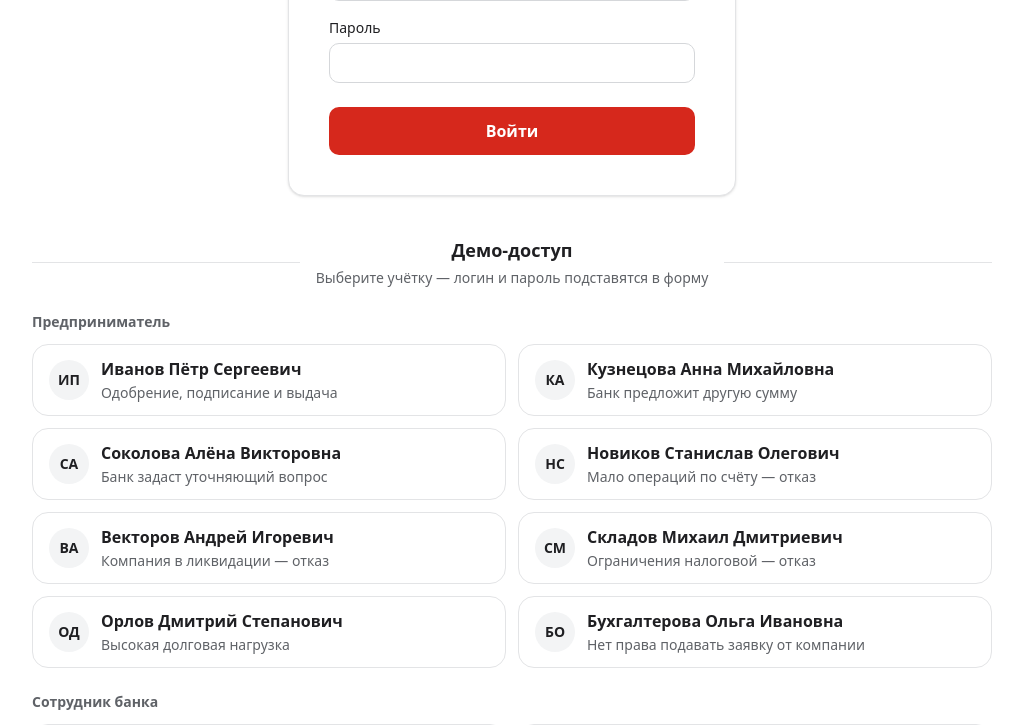
Test: экран входа › демо-учётка подставляет логин и пароль, вход ведёт на привязку компании
(page scrolled)
Click the button "КА Кузнецова Анна Михайловна Банк предложит другую сумму" at coordinates (755, 380), box [518, 344, 992, 416]
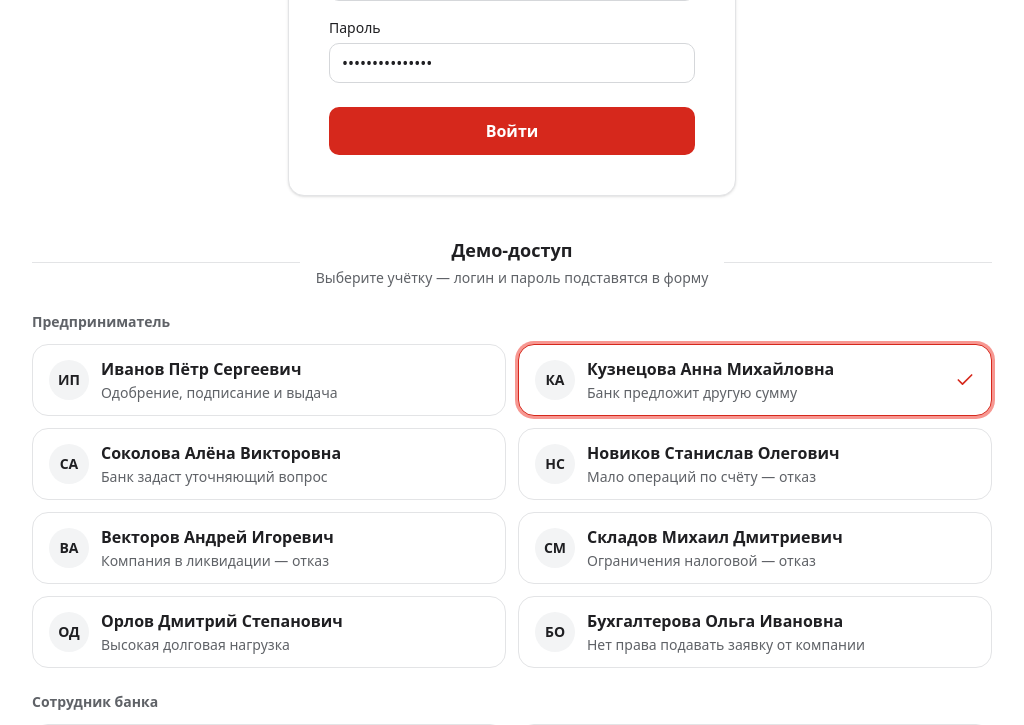
Result: the password field labelled "Пароль" holds "creditflow-demo" at [329, 43, 695, 83]
Click the button "Войти" at coordinates (512, 131), box [329, 107, 695, 155]
(page scrolled)
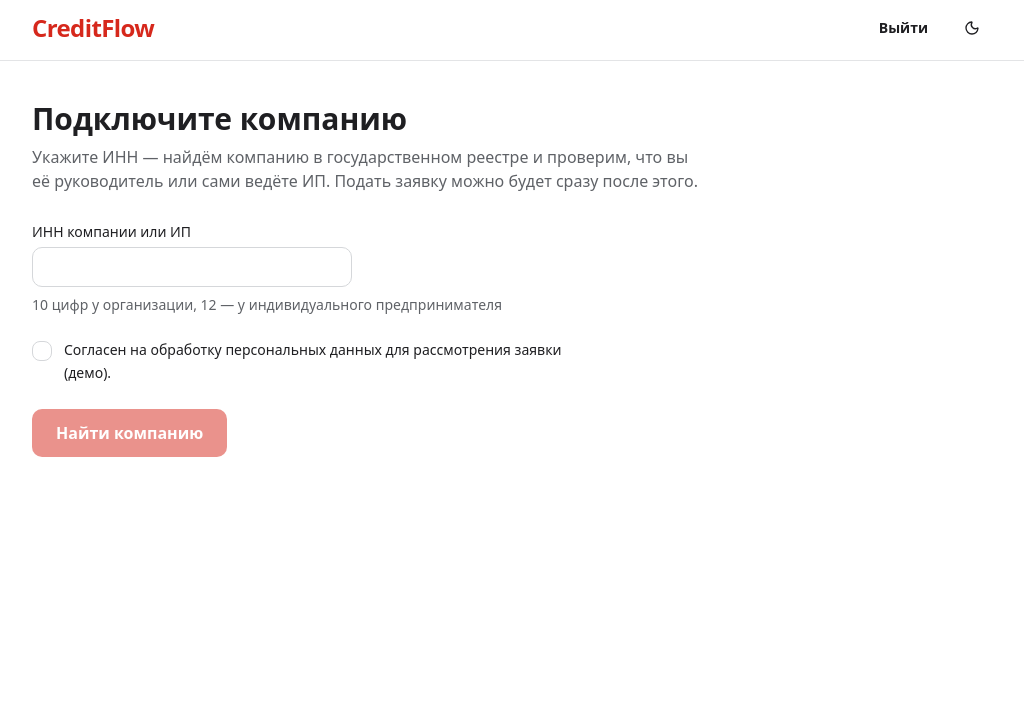
Result: the heading "Подключите компанию" is shown at [32, 98, 407, 139]
